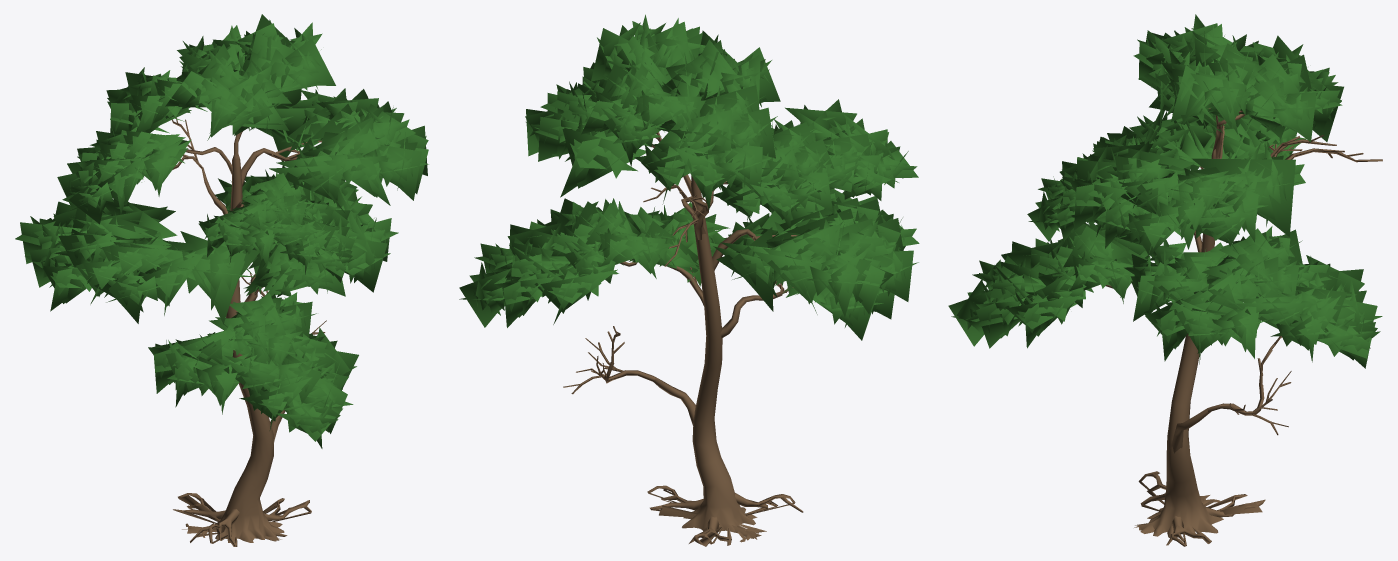
The model's file is Huangshan_Pine_B.obj.
The picture shows the model from 3 angles, left to right: view 1: azimuth 30°, elevation 25°; view 2: azimuth 150°, elevation 25°; view 3: azimuth 270°, elevation 25°; orthographic projection. The views are drawn at different scales.
Visible parts, largest first — view 1: Leaves, Trunk; view 2: Leaves, Trunk; view 3: Leaves, Trunk.
Boxes of the visible parts, bbox=[...] form: Leaves: bbox=[15, 14, 428, 448]; Trunk: bbox=[172, 117, 326, 546]; Leaves: bbox=[459, 14, 919, 340]; Trunk: bbox=[563, 97, 803, 546]; Leaves: bbox=[948, 14, 1382, 368]; Trunk: bbox=[1106, 108, 1382, 546].
Bounding box in the file's own units: 41.02 × 52.27 × 40.83.
